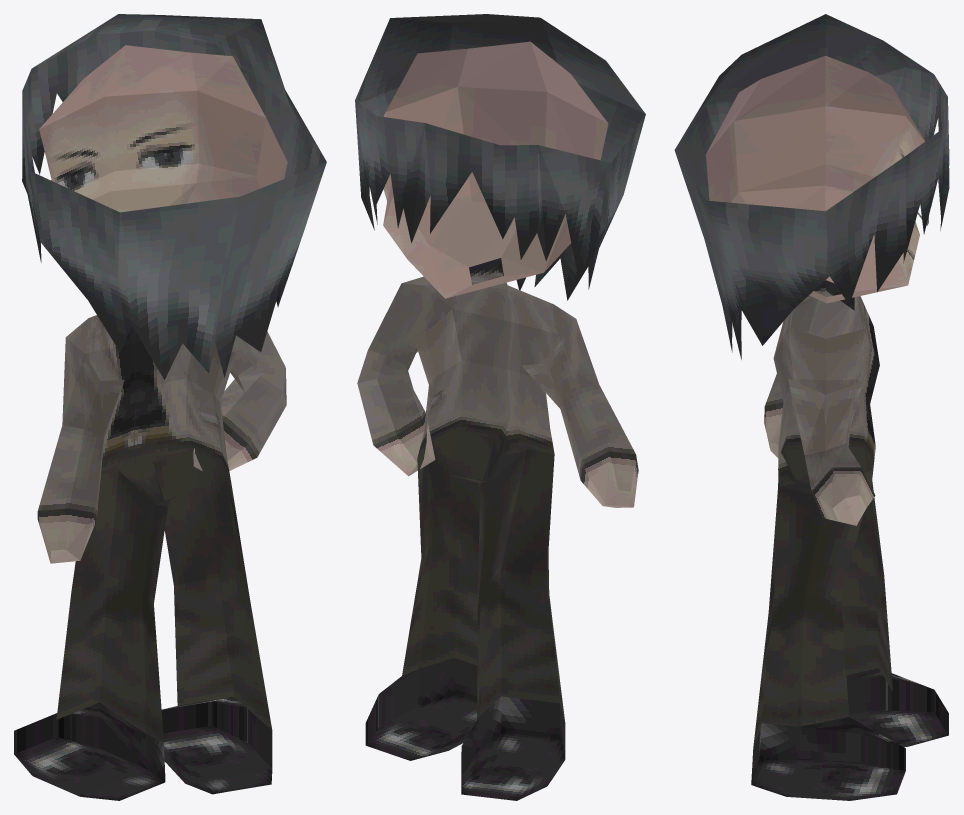
Rendered from ps2_save-icons_lastescort.glb.
The picture shows the model from 3 angles, left to right: view 1: azimuth 30°, elevation 25°; view 2: azimuth 150°, elevation 25°; view 3: azimuth 270°, elevation 25°; orthographic projection. The views are drawn at different scales.
Visible parts, largest first — view 1: icon.ico; view 2: icon.ico; view 3: icon.ico.
Part boxes in pixels (left/top/right/bottom): icon.ico: left=14, top=14, right=326, bottom=800; icon.ico: left=355, top=14, right=645, bottom=800; icon.ico: left=674, top=14, right=949, bottom=800.
Size of the model in its own units: 1.68 by 4.52 by 1.56.
1 material, 1 textured.
